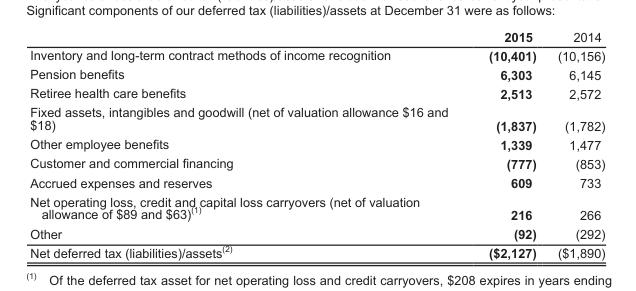table: (29, 29, 604, 260)
table column: (29, 29, 467, 260), (467, 29, 546, 260), (546, 29, 604, 260)
table column header: (29, 29, 604, 45)
table row: (29, 102, 604, 134), (29, 192, 604, 223), (29, 172, 604, 192), (29, 45, 604, 64), (29, 64, 604, 83), (29, 83, 604, 102), (29, 134, 604, 153), (29, 153, 604, 172), (29, 223, 604, 242), (29, 242, 604, 260), (29, 29, 604, 45)
